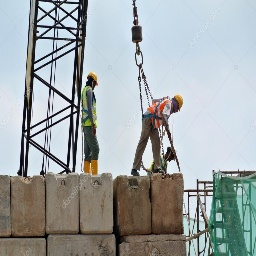person: (132, 92, 185, 176), (82, 67, 100, 178)
